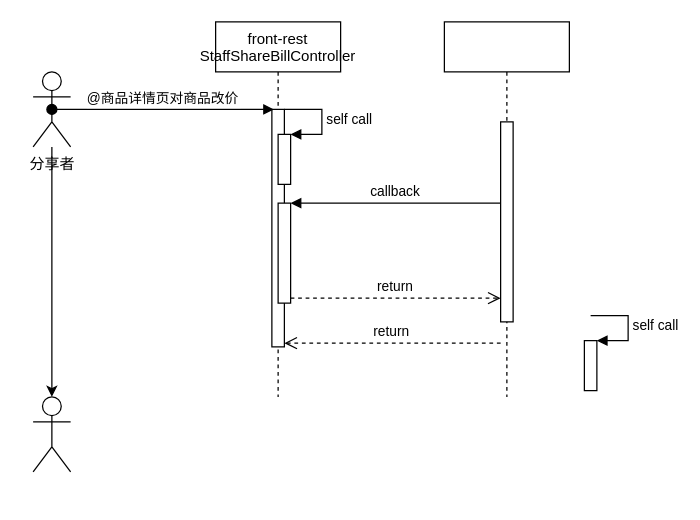
The diagram is 700 pixels wide and 520 high, and some of its shapes have lost their labels. Each missing label, with the box of its shape:
:Object: (443, 21, 569, 397)
被分享者: (32, 396, 71, 472)
